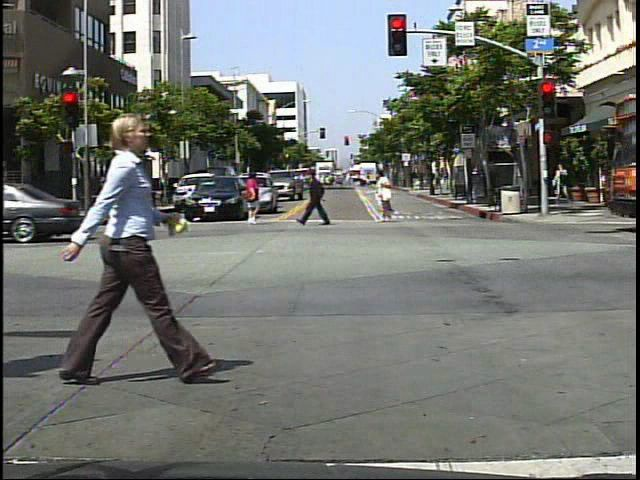person: (49, 91, 201, 402), (302, 158, 338, 232), (371, 164, 402, 227), (234, 167, 266, 227), (553, 160, 575, 203)
